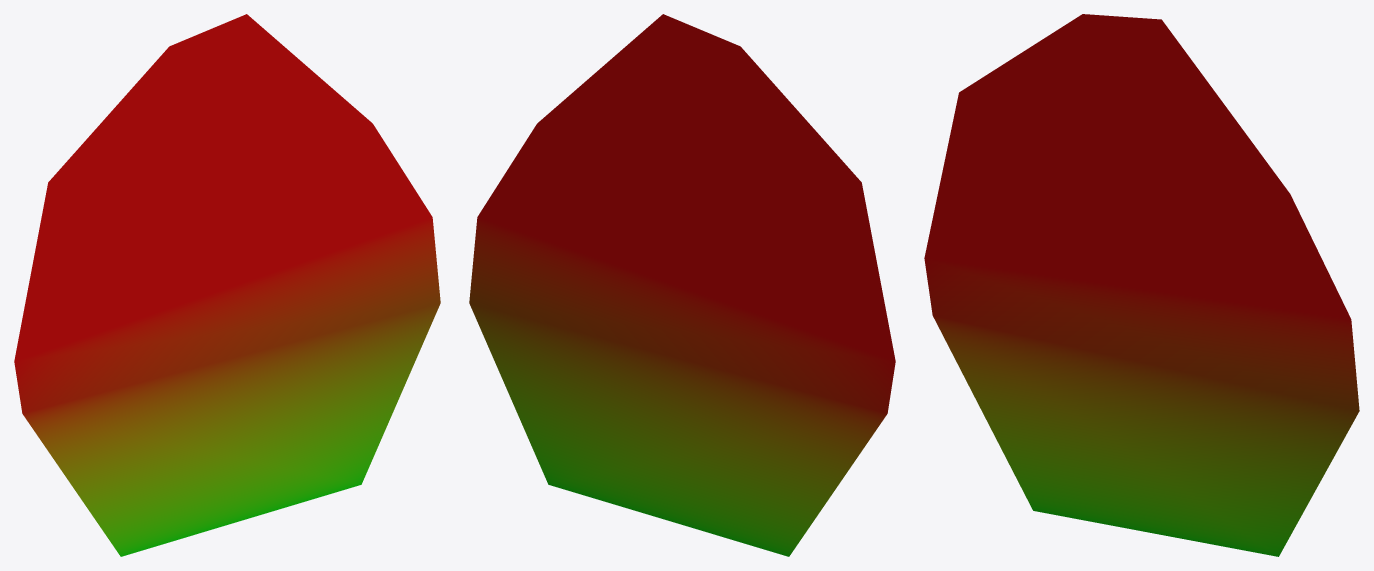
The model's file is Butterfly Weed_LOD4_Var4.fbx.
3 views of the same model, side by side, from view 1: azimuth 30°, elevation 25°; view 2: azimuth 150°, elevation 25°; view 3: azimuth 330°, elevation 25° (orthographic). The views are drawn at different scales.
Parts seen in each view (by area): view 1: _e35l_Var4_LOD4; view 2: _e35l_Var4_LOD4; view 3: _e35l_Var4_LOD4.
Boxes of the visible parts, x1,y1,x2,y2 form: _e35l_Var4_LOD4: (14,14,440,556); _e35l_Var4_LOD4: (469,14,895,556); _e35l_Var4_LOD4: (924,14,1359,556).
Bounding box in the file's own units: 71 × 81.49 × 4.82e-06.
